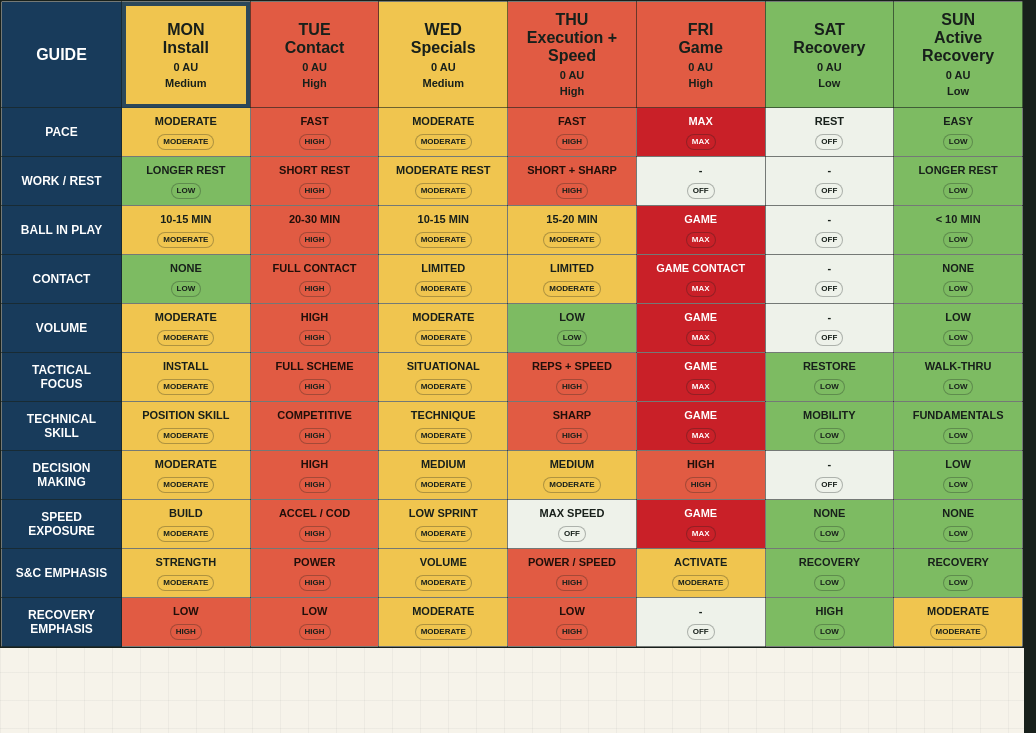
Test: DemandGridComponent › collapses the active editor without selecting another cell
This screenshot has width=1036, height=733.
Click the 1st button with class "cell-intent-trigger". click: {"x": 186, "y": 132}
box: [122,108,250,156]
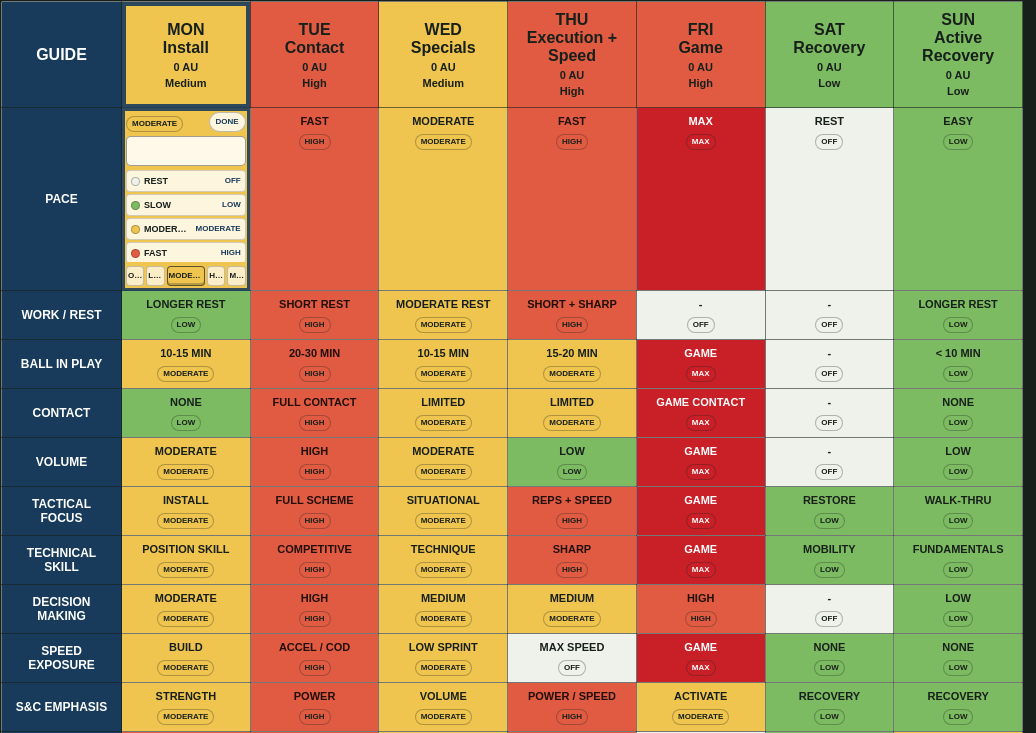
Click the button "Max". click: {"x": 237, "y": 276}
box: [227,266,246,286]
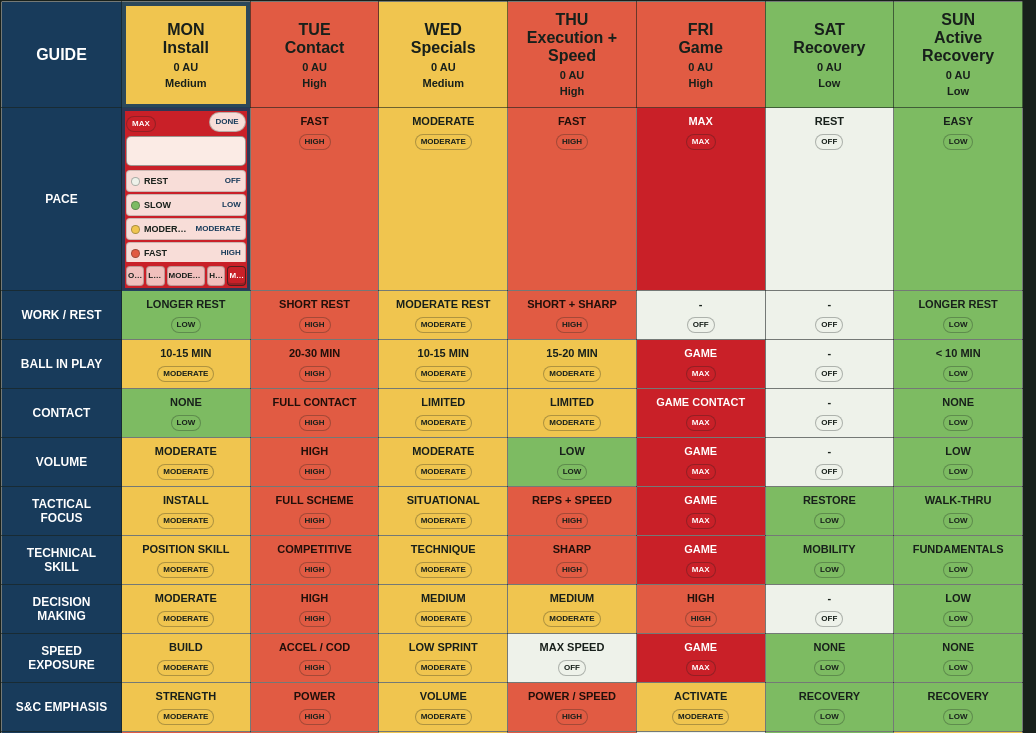
Click the button with class "cell-collapse-button". click: {"x": 227, "y": 122}
box: [209,112,246,132]
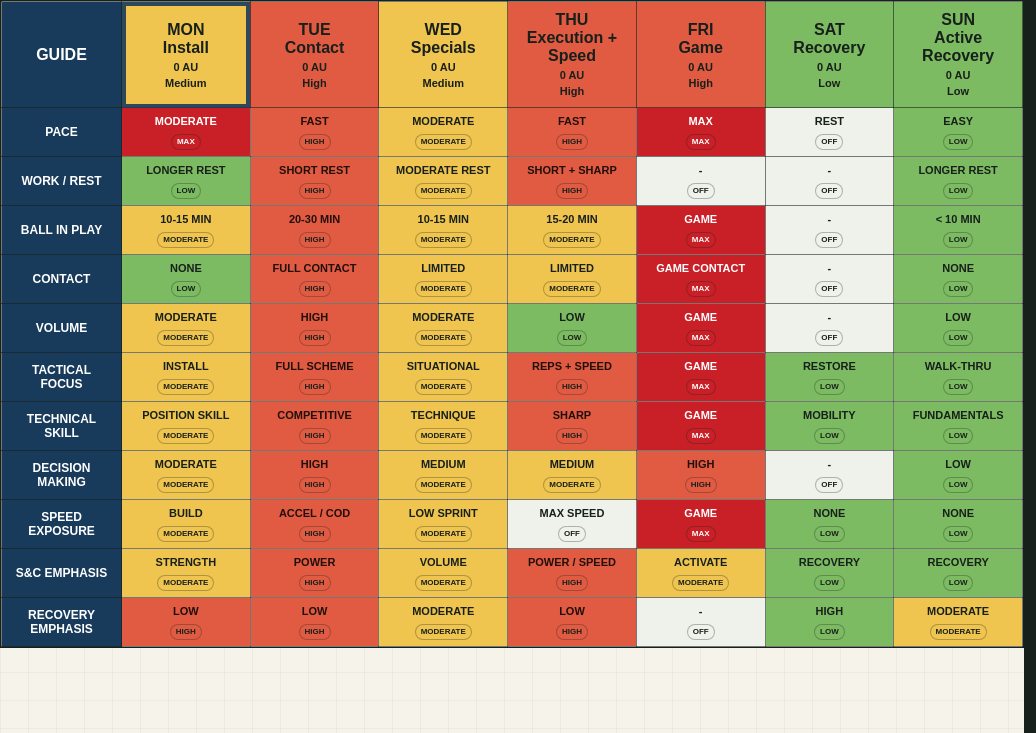
Result: the field with class "cell-intent-input" is gone
Result: the button with class "cell-intent-trigger" showing "Moderate Max" is shown at [122,108,250,156]
